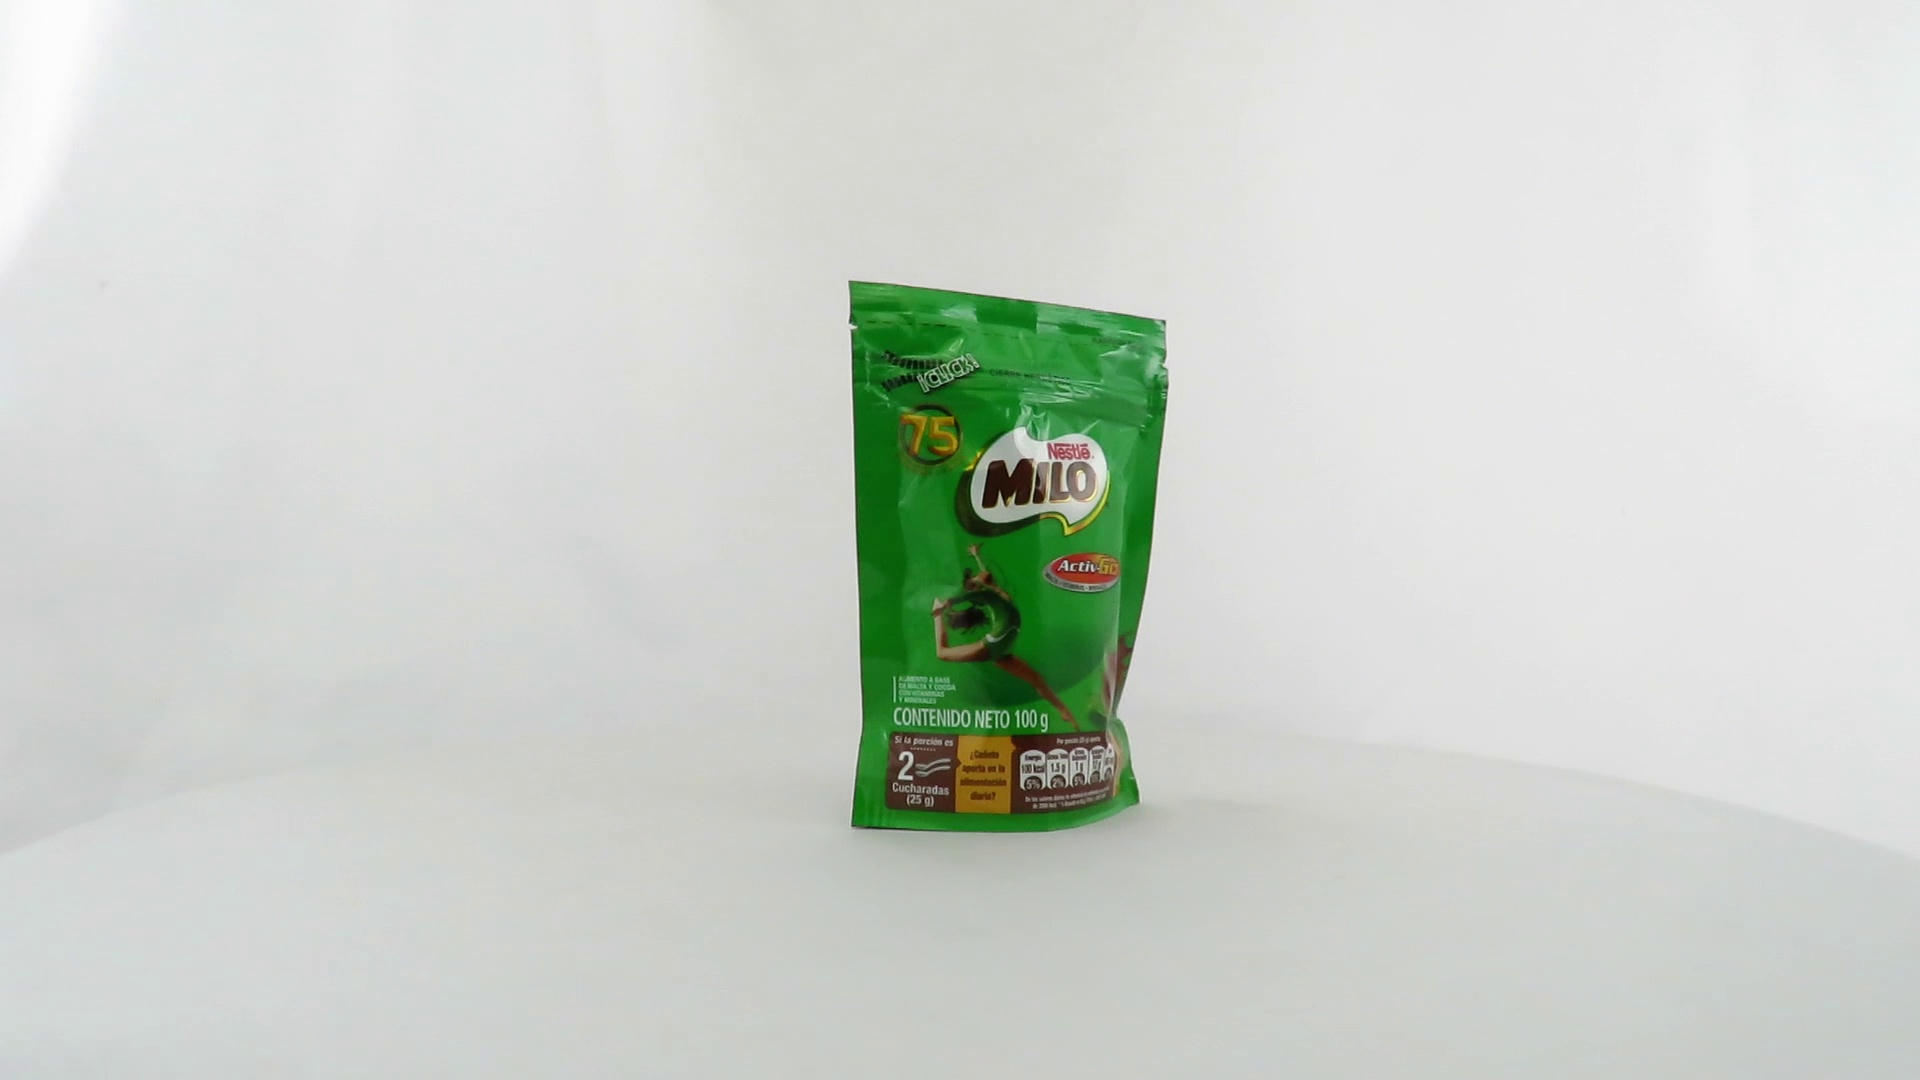COL0170203DYP10000: (843, 276, 1175, 839)
